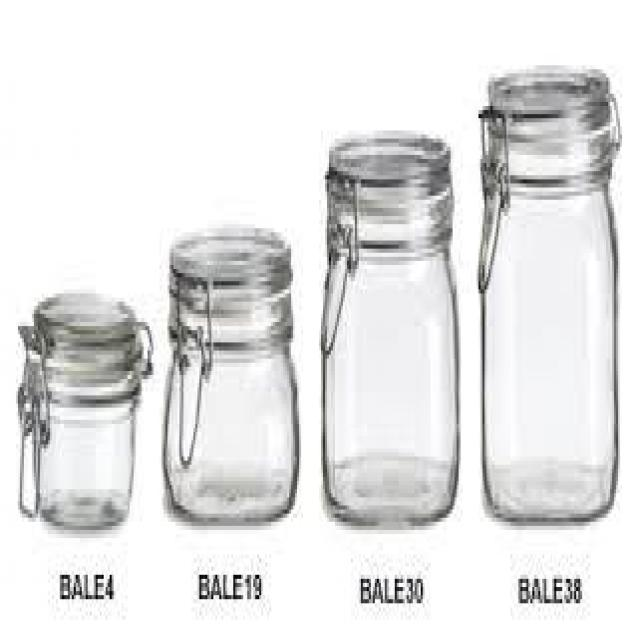non-organic waste: (156, 226, 301, 532)
